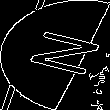N_E: (10, 27, 100, 83)
